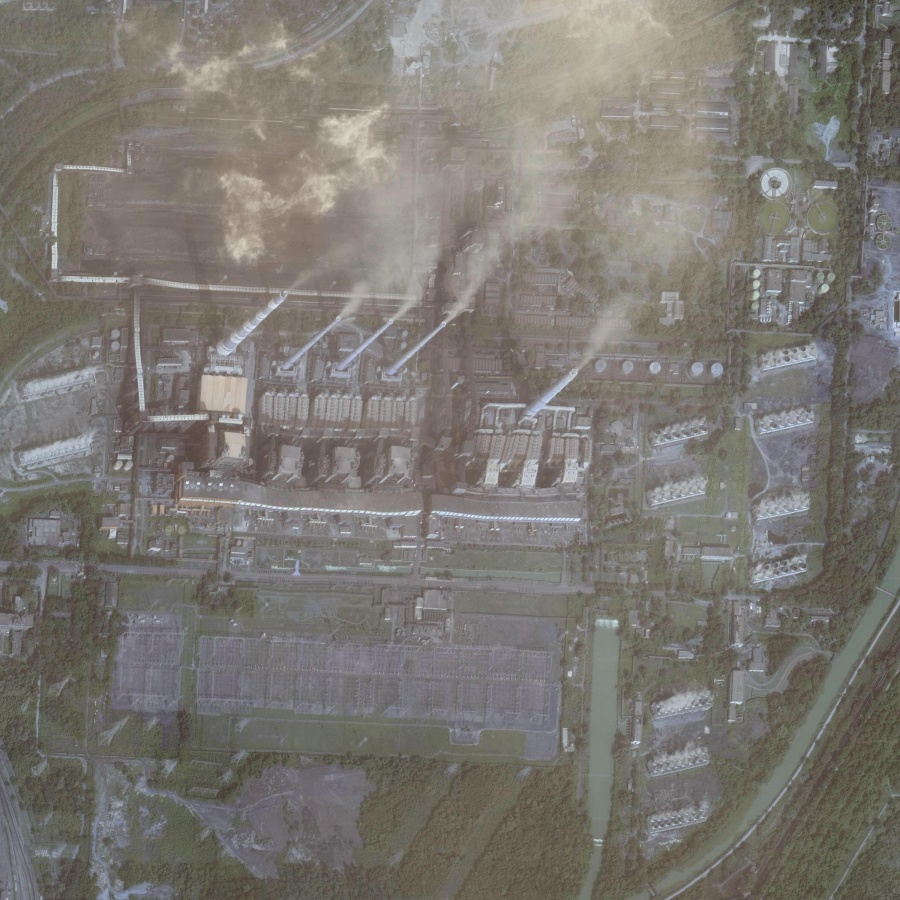PowerPlant: (56, 57, 617, 533)
